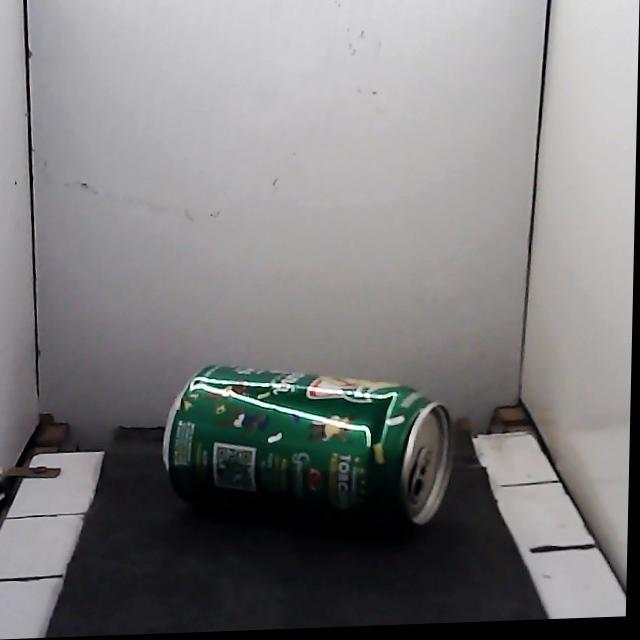metal: (163, 367, 451, 524)
